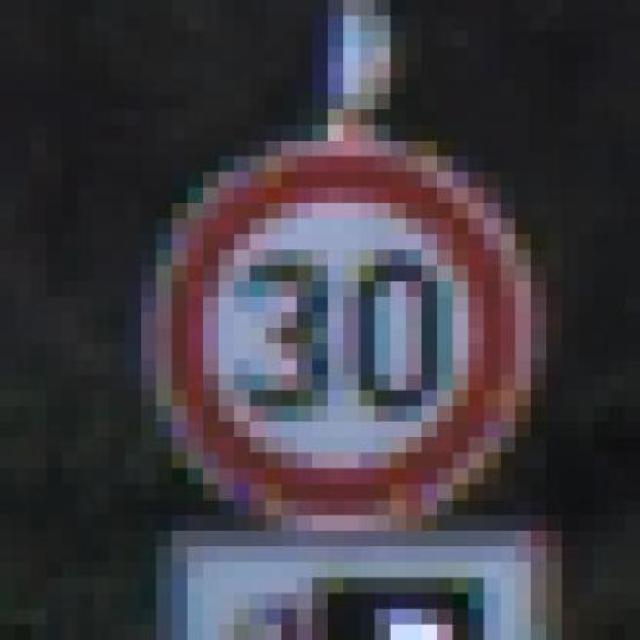Speed Limit 30 KMPh: (78, 125, 593, 546)
